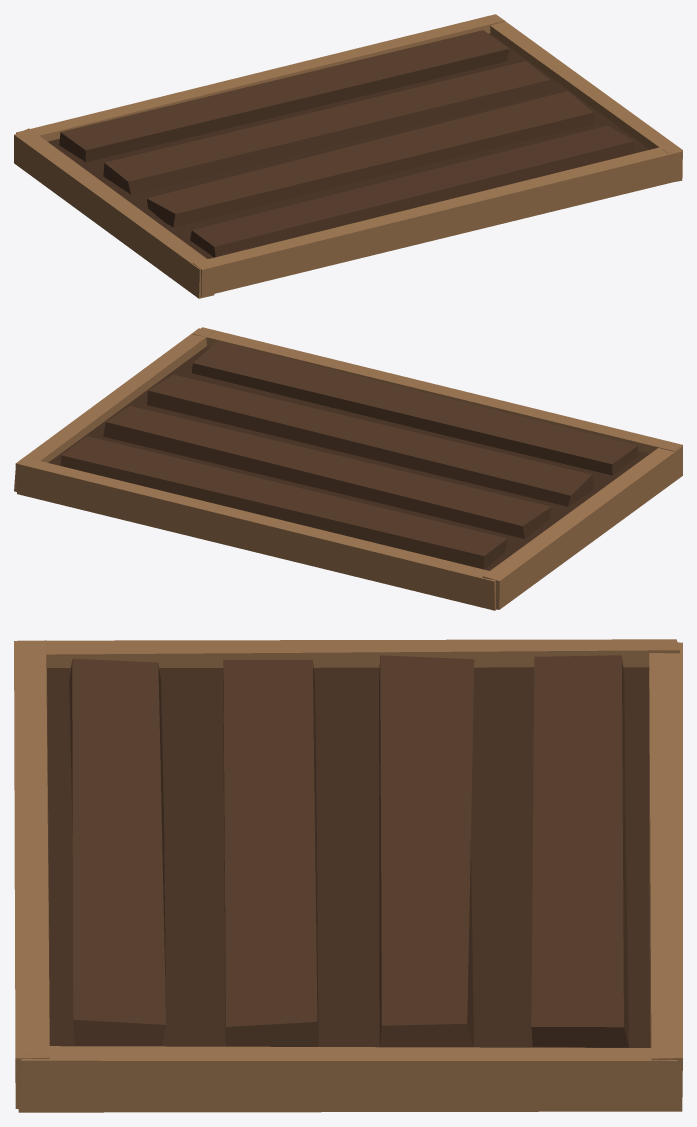
File: field.glb
3 renders of one model, top to bottom at view 1: azimuth 30°, elevation 25°; view 2: azimuth 150°, elevation 25°; view 3: azimuth 270°, elevation 25°, orthographic. The views are drawn at different scales.
Visible parts, largest first — view 1: field; view 2: field; view 3: field.
Part boxes in pixels (x1,y1,x2,y2): field: (14, 14, 682, 298); field: (14, 327, 682, 610); field: (14, 639, 682, 1112).
Size of the model in its own units: 2.43 by 0.1755 by 1.62.
